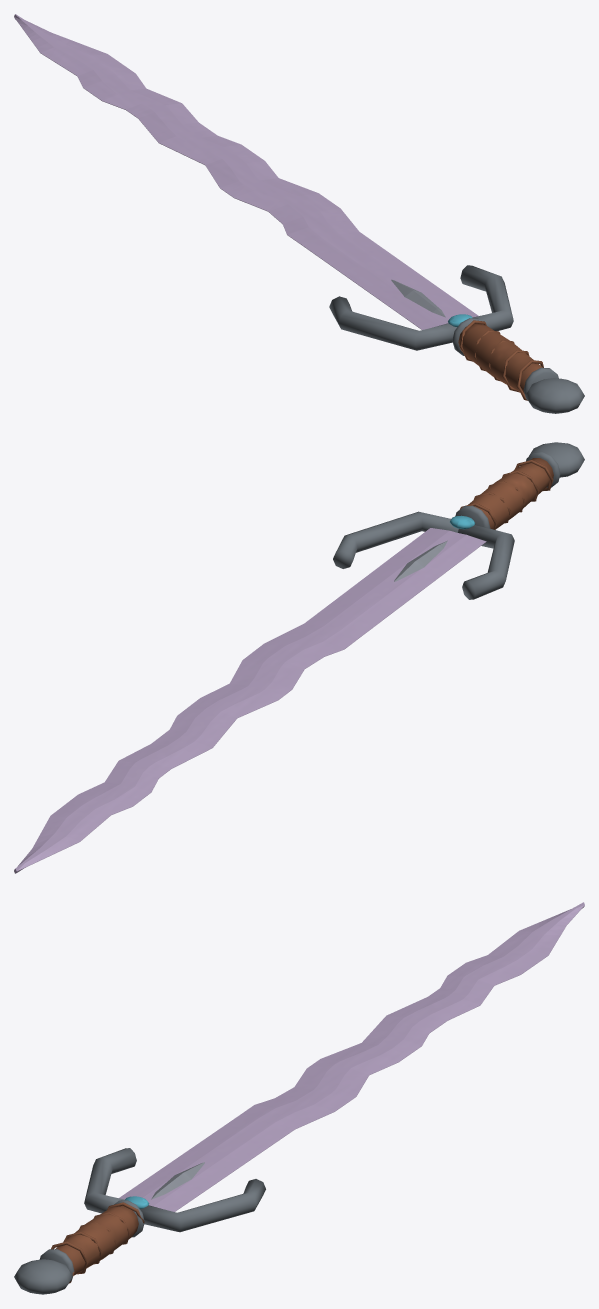
File: item_lsword3.glb
3 renders of one model, top to bottom at view 1: azimuth 30°, elevation 25°; view 2: azimuth 150°, elevation 25°; view 3: azimuth 330°, elevation 25°, orthographic.
Parts seen in each view (by area): view 1: swords_lsword3; view 2: swords_lsword3; view 3: swords_lsword3.
Part boxes in pixels (x1,y1,x2,y2): swords_lsword3: (14,14,584,413); swords_lsword3: (14,442,584,873); swords_lsword3: (14,902,584,1294).
Bounding box in the file's own units: 0.2334 × 0.0541 × 1.36.
1 material, 1 textured.
